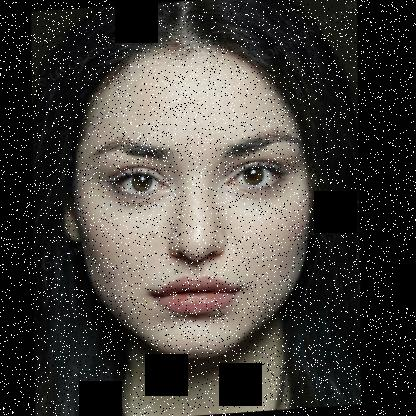Female: (46, 38, 329, 364)
